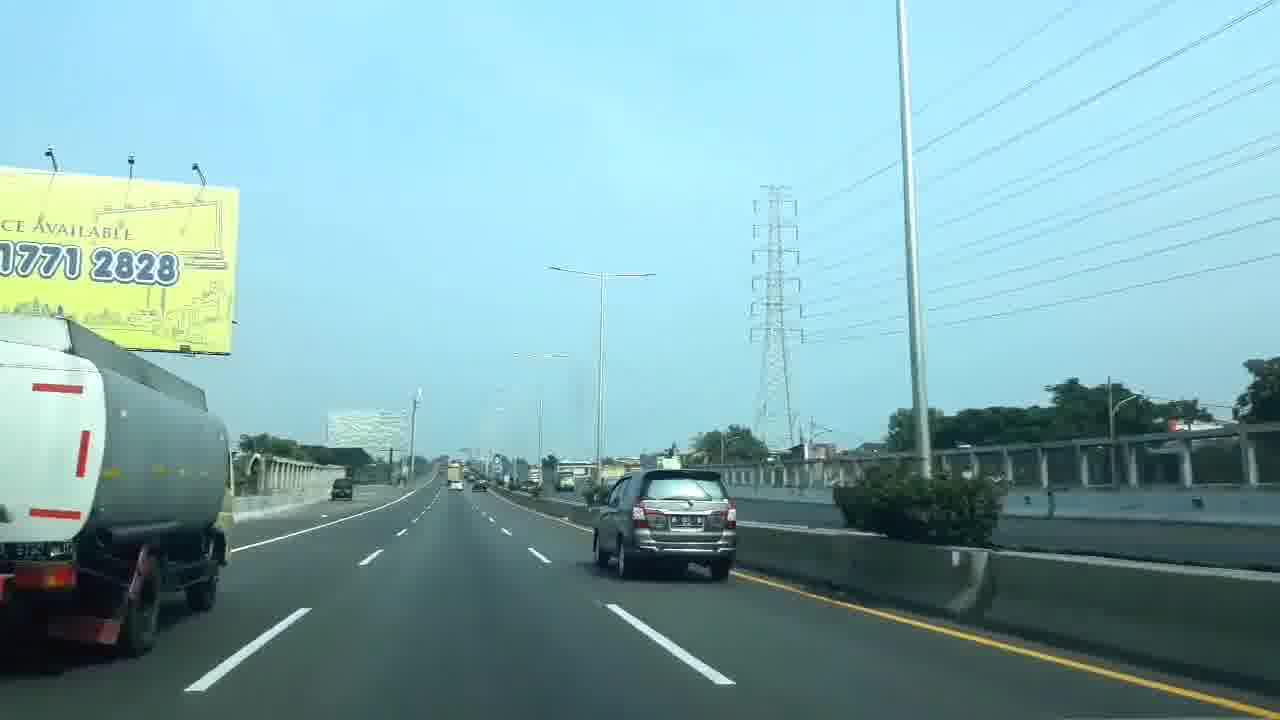plate_positive: (669, 515, 704, 528)
